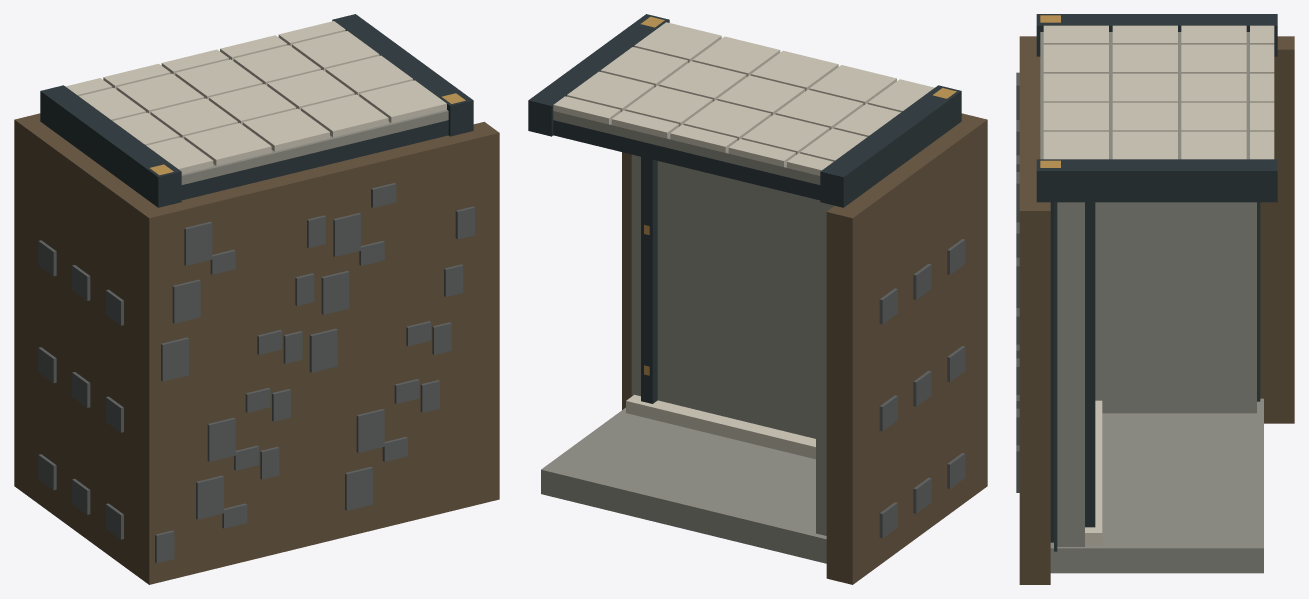
The picture shows the model from 3 angles, left to right: view 1: azimuth 30°, elevation 25°; view 2: azimuth 150°, elevation 25°; view 3: azimuth 270°, elevation 25°; orthographic projection. The views are drawn at different scales.
Parts seen in each view (by area): view 1: 原地下层实墙与楼板; view 2: 原地下层实墙与楼板; view 3: 原地下层实墙与楼板.
Boxes of the visible parts, <box> form: 原地下层实墙与楼板: <box>14,14,499,584</box>; 原地下层实墙与楼板: <box>528,14,987,584</box>; 原地下层实墙与楼板: <box>1016,14,1294,584</box>.
Bounding box in the file's own units: 2.42 × 2.6 × 1.62.
7 materials, 7 textured.
